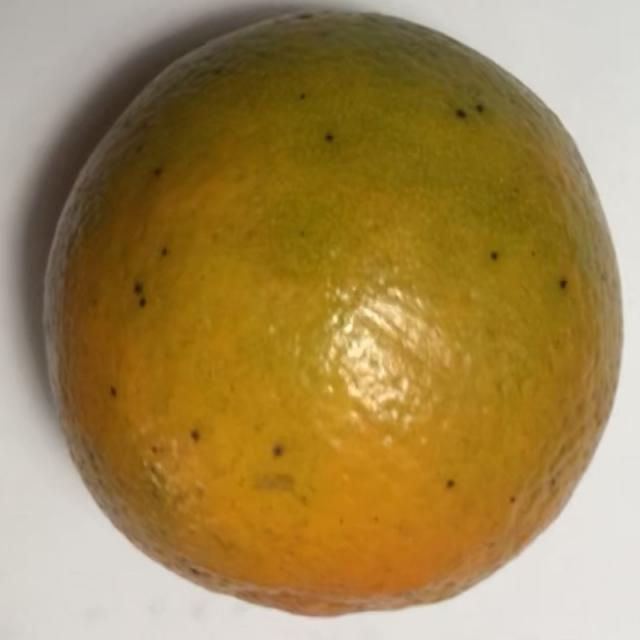blackspot: (23, 10, 630, 622)
